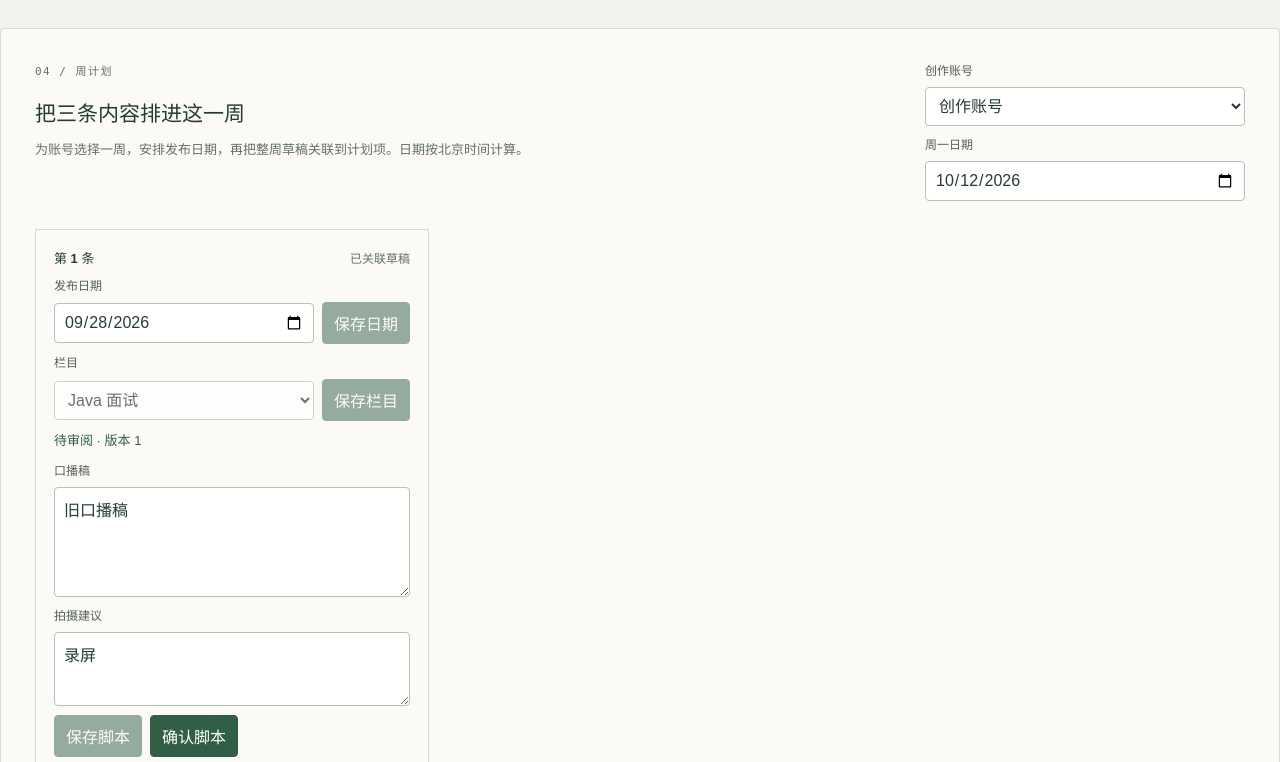
Test: weekly schedule page › shows saved scripts, warns on unsaved edits, and confirms the saved version
This screenshot has width=1280, height=762.
Step 1. Type "2026-09-28" into the date field labelled "周一日期" → (1085, 181), box [925,161,1245,201]
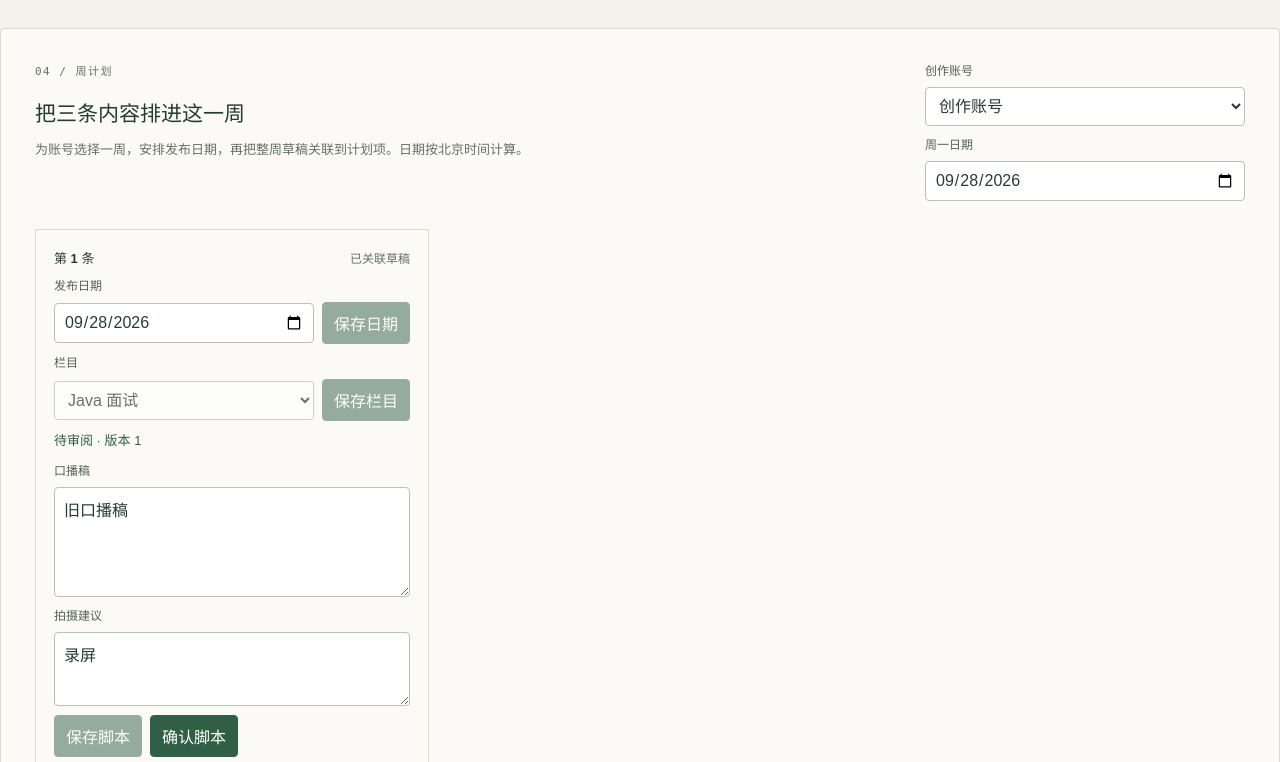
Step 2. Replace the text in the text box labelled "口播稿" with "新口播稿" → (232, 542), box [54,487,410,597]
(page scrolled)
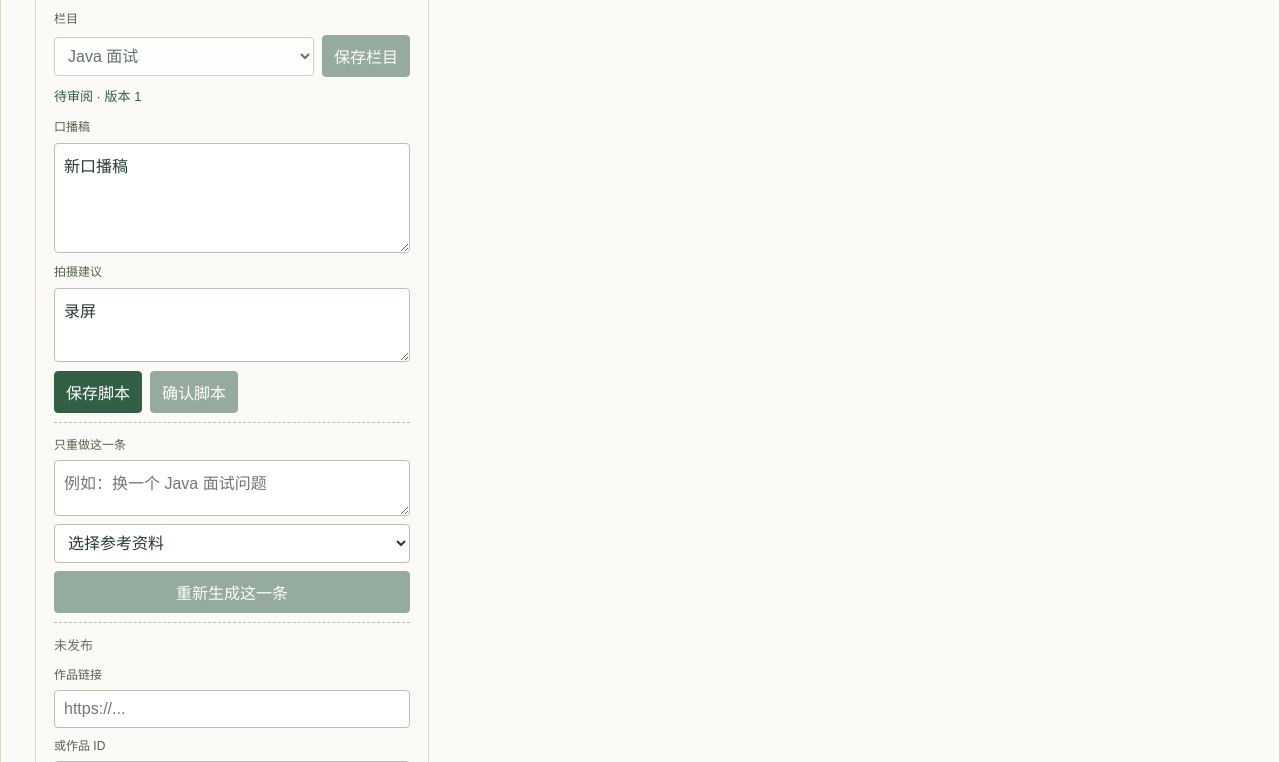
Step 3. Click the button "保存脚本" → (98, 392), box [54,371,142,413]
(page scrolled)
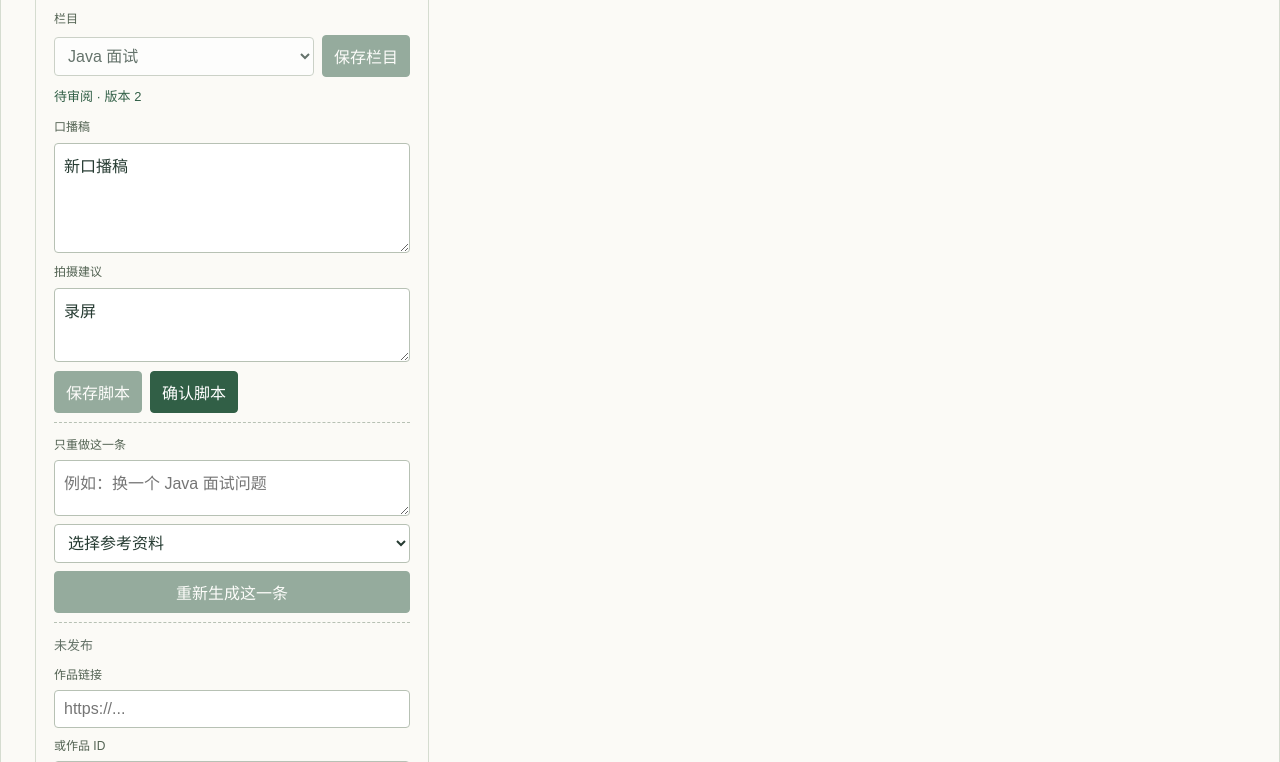
Step 4. Click the button "确认脚本" → (194, 392), box [150,371,238,413]
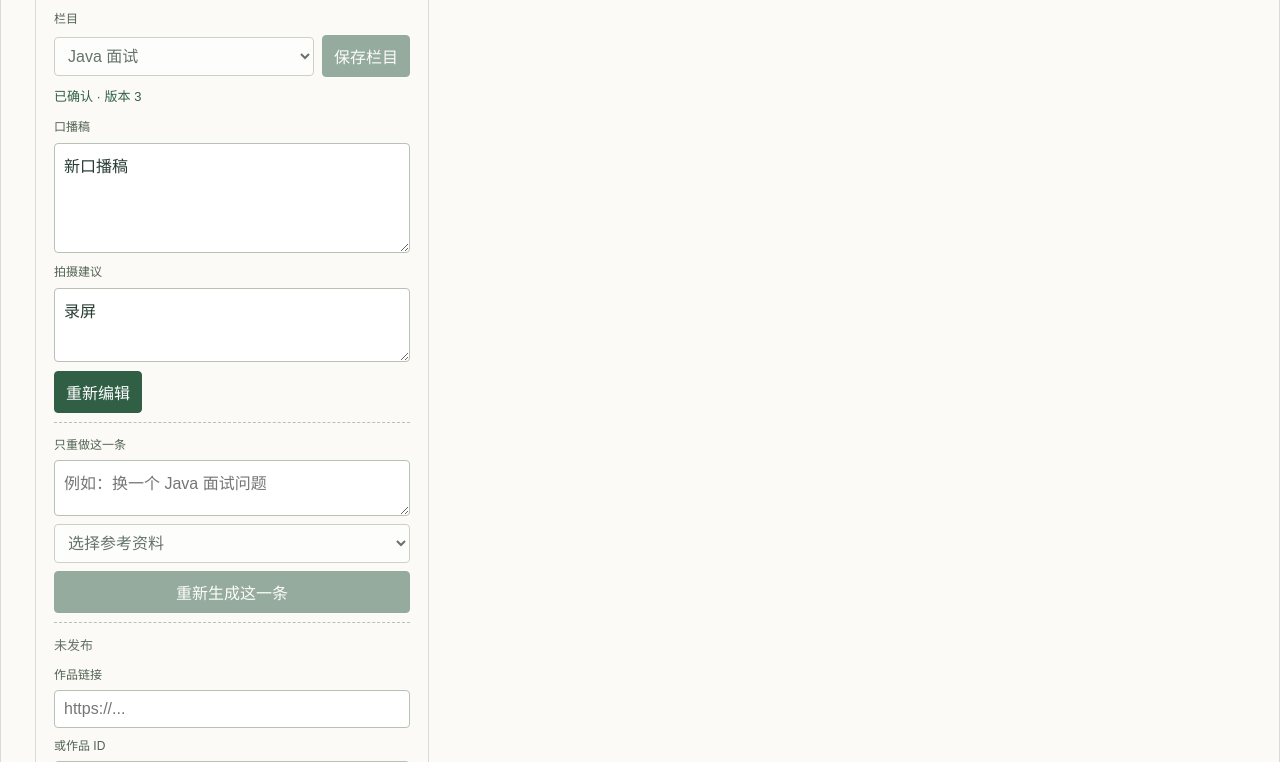
Now the text "已确认" is shown, box [54,89,141,104]
